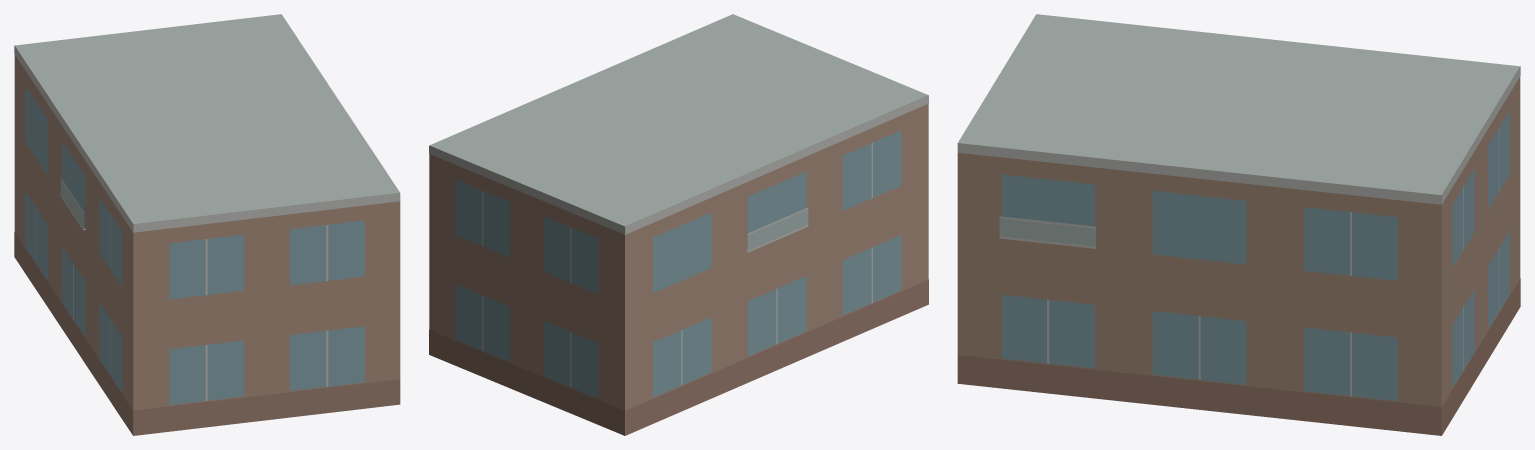
The model's file is survey-upis-32722578.glb.
The picture shows the model from 3 angles, left to right: view 1: azimuth 30°, elevation 25°; view 2: azimuth 150°, elevation 25°; view 3: azimuth 270°, elevation 25°; orthographic projection. The views are drawn at different scales.
Parts seen in each view (by area): view 1: survey-upis-32722578.tmp; view 2: survey-upis-32722578.tmp; view 3: survey-upis-32722578.tmp.
Part boxes in pixels (box(x1,y1,x2,y2)): survey-upis-32722578.tmp: box(14, 14, 400, 435); survey-upis-32722578.tmp: box(429, 14, 928, 435); survey-upis-32722578.tmp: box(957, 14, 1520, 435).
Bounding box in the file's own units: 9.86 × 6.1 × 12.94.
